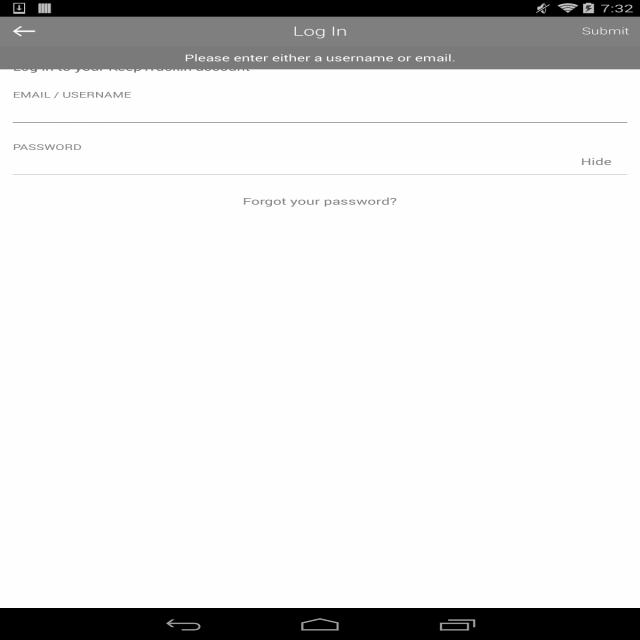Button: (236, 185, 403, 218), (559, 144, 627, 176), (569, 17, 640, 46)
EditText: (13, 152, 627, 178), (13, 100, 627, 125)
ImageView: (13, 26, 35, 37)
TextView: (0, 54, 263, 81), (13, 89, 627, 100), (13, 142, 627, 152), (293, 24, 347, 39)
